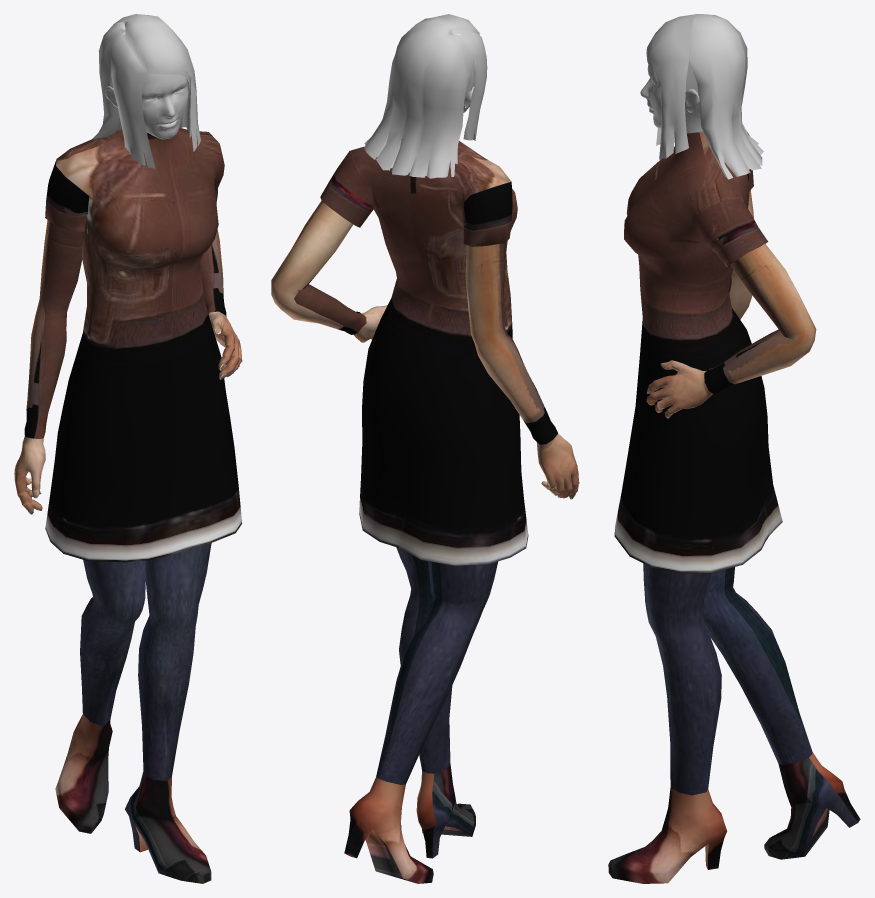
3 views of the same model, side by side, from view 1: azimuth 30°, elevation 25°; view 2: azimuth 150°, elevation 25°; view 3: azimuth 270°, elevation 25° (orthographic).
Parts seen in each view (by area): view 1: objpolySur; view 2: objpolySur; view 3: objpolySur.
Boxes of the visible parts, bbox=[...] form: objpolySur: bbox=[14, 14, 242, 883]; objpolySur: bbox=[271, 14, 579, 883]; objpolySur: bbox=[608, 14, 860, 883].
Size of the model in its own units: 53.04 by 45.25 by 168.
